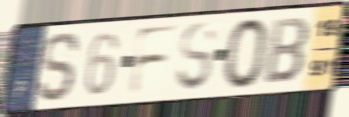6: (84, 29, 121, 98)
B: (262, 16, 312, 86)
F: (126, 22, 182, 98)
O: (222, 15, 271, 91)
S: (174, 19, 220, 95), (35, 30, 82, 104)
